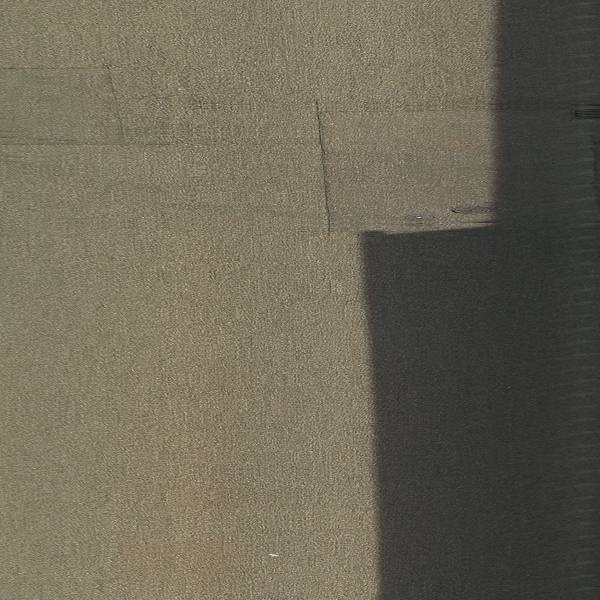road_damage: (300, 94, 568, 243), (1, 45, 143, 161)
